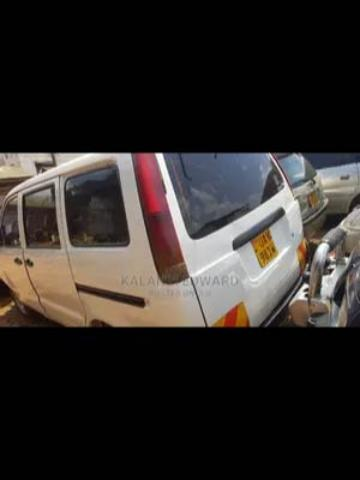van: (0, 154, 304, 324)
